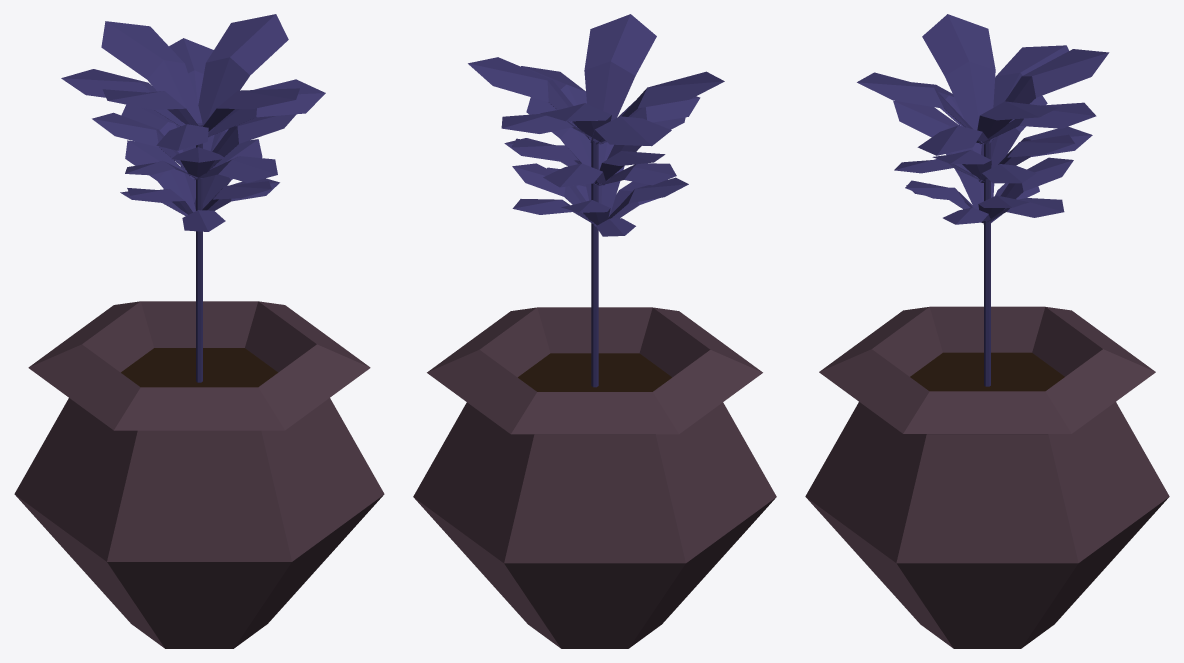
Rendered from FlowerPot1.glb.
3 renders of one model, left to right at view 1: azimuth 30°, elevation 25°; view 2: azimuth 150°, elevation 25°; view 3: azimuth 270°, elevation 25°, orthographic.
Parts seen in each view (by area): view 1: FlowerPot1; view 2: FlowerPot1; view 3: FlowerPot1.
Boxes of the visible parts, bbox=[...] form: FlowerPot1: bbox=[14, 14, 384, 648]; FlowerPot1: bbox=[413, 14, 776, 648]; FlowerPot1: bbox=[805, 14, 1169, 648].
Size of the model in its own units: 0.5917 by 1.15 by 0.6832.
